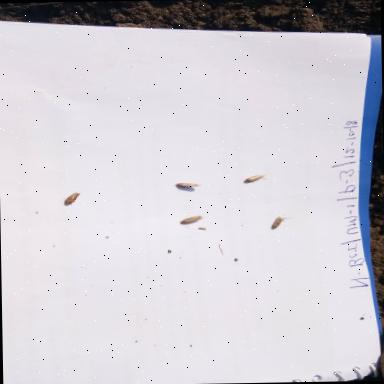pbw: (174, 211, 212, 231), (236, 168, 272, 189), (260, 212, 292, 234), (60, 190, 82, 206), (172, 181, 204, 191)
